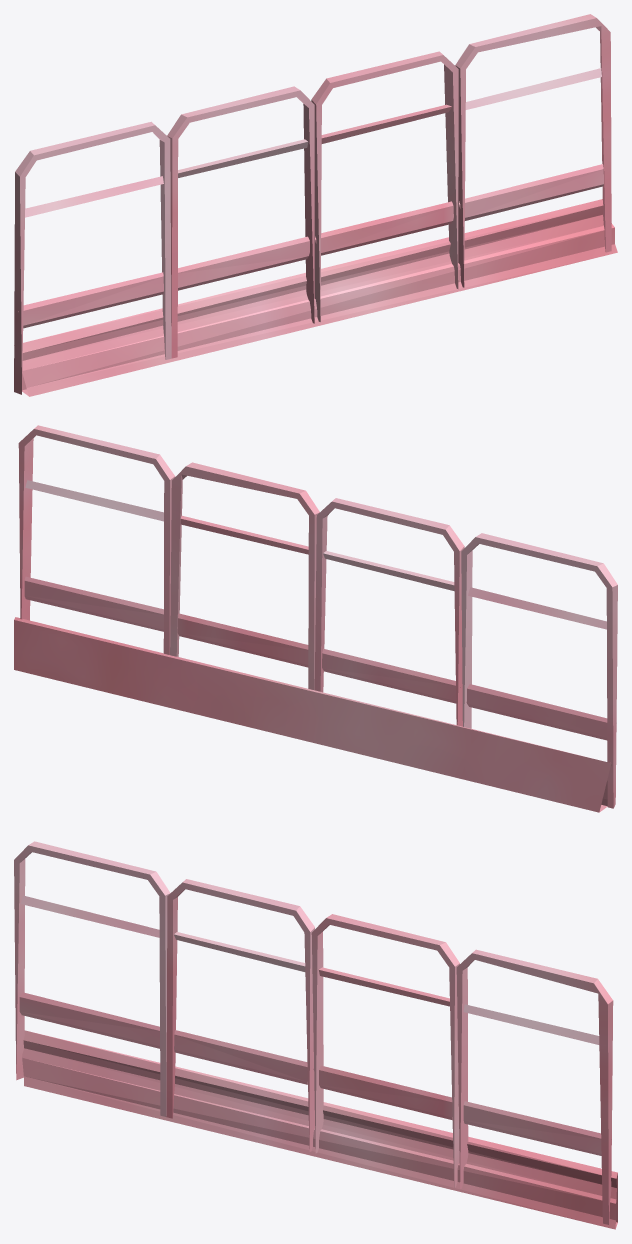
Rendered from factoryfence.fbx.
The picture shows the model from 3 angles, top to bottom: view 1: azimuth 30°, elevation 25°; view 2: azimuth 150°, elevation 25°; view 3: azimuth 330°, elevation 25°; orthographic projection.
Parts seen in each view (by area): view 1: Industrial Stairs.001; view 2: Industrial Stairs.001; view 3: Industrial Stairs.001.
Boxes of the visible parts, left/top/right/bottom form: Industrial Stairs.001: left=14, top=14, right=617, bottom=396; Industrial Stairs.001: left=14, top=425, right=617, bottom=812; Industrial Stairs.001: left=14, top=841, right=617, bottom=1229.
Bounding box in the file's own units: 302 × 116 × 7.96.
